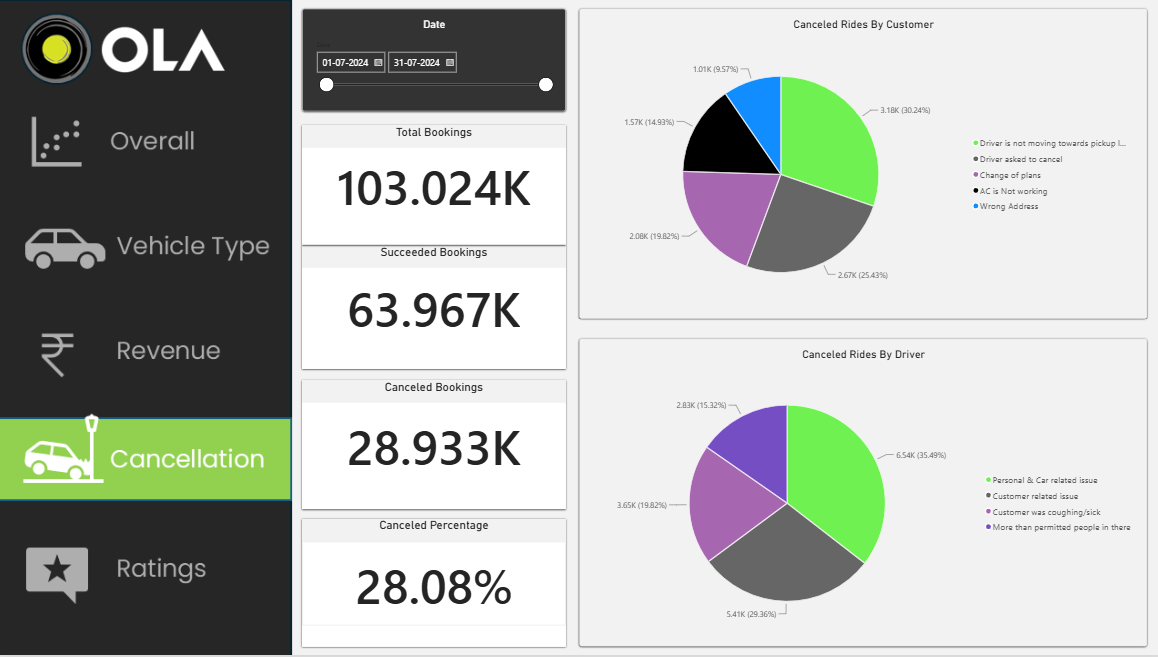

What the dashboard file says about the page in this screenshot:
{"tool":"powerbi","page":{"name":"Cancellation","canvas":[1920,1080],"ordinal":3},"visuals":[{"type":"actionButton","box":[0,335,484.1,135.7],"z":0},{"type":"actionButton","box":[1.7,510.9,484.1,135.7],"z":1000},{"type":"actionButton","box":[1.7,690.1,484.1,135.7],"z":2000},{"type":"actionButton","box":[0,869.3,484.1,135.7],"z":3000},{"type":"actionButton","box":[1.7,169.2,484.1,135.7],"z":4000},{"type":"pieChart","title":"Canceled Rides By Customer","fields":{"Category":["July.Canceled_Rides_by_Customer"],"Y":["CountNonNull(July.Canceled_Rides_by_Customer)"]},"box":[959.2,14.4,934.5,510.5],"z":4001},{"type":"pieChart","title":"Canceled Rides By Driver","fields":{"Category":["July.Canceled_Rides_by_Driver"],"Y":["CountNonNull(July.Canceled_Rides_by_Driver)"]},"box":[959.2,557.8,934.5,506.3],"z":4002},{"type":"slicer","title":"Date","fields":{"Values":["July.Date"]},"box":[502.2,14.4,434.3,168.8],"z":4003},{"type":"cardVisual","title":"Total Bookings","fields":{"Data":["CountNonNull(July.Booking_ID)"]},"box":[502.6,206.3,434.6,197.5],"z":4004},{"type":"cardVisual","title":"Succeeded Bookings","fields":{"Data":["CountNonNull(July.Booking_ID)"]},"box":[502.6,403.8,434.6,204.1],"z":4005},{"type":"cardVisual","title":"Canceled Bookings","fields":{"Data":["CountNonNull(July.Booking_ID)"]},"box":[502.6,625.5,434.6,212.9],"z":4006},{"type":"cardVisual","title":"Canceled Percentage","fields":{"Data":["July.CanceledPercentage"]},"box":[502.6,853.8,434.6,210.7],"z":4007}]}

Visuals, with their boxes on the page's 1920x1080 design canvas (x1, y1, x2, y2). These are canvas units, not pixel positions in the 1158x657 screenshot, which may show the page scaled, cropped or inside an application window:
actionButton: 0/335/484/471
actionButton: 2/511/486/647
actionButton: 2/690/486/826
actionButton: 0/869/484/1005
actionButton: 2/169/486/305
"Canceled Rides By Customer" pieChart: 959/14/1894/525
"Canceled Rides By Driver" pieChart: 959/558/1894/1064
"Date" slicer: 502/14/936/183
"Total Bookings" cardVisual: 503/206/937/404
"Succeeded Bookings" cardVisual: 503/404/937/608
"Canceled Bookings" cardVisual: 503/626/937/838
"Canceled Percentage" cardVisual: 503/854/937/1064
